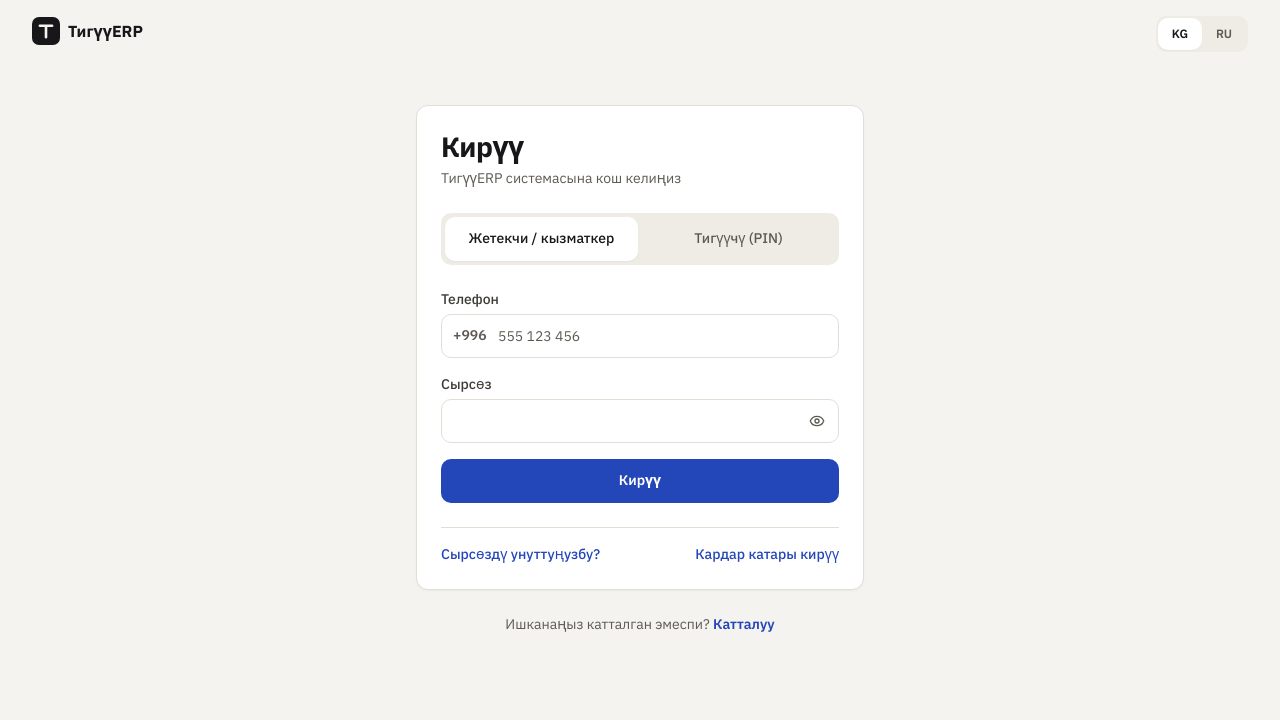
Test: login (1.1) › validates the phone on the client
Type "555" into the field labelled "Телефон" at (640, 336), box [441, 314, 839, 358]
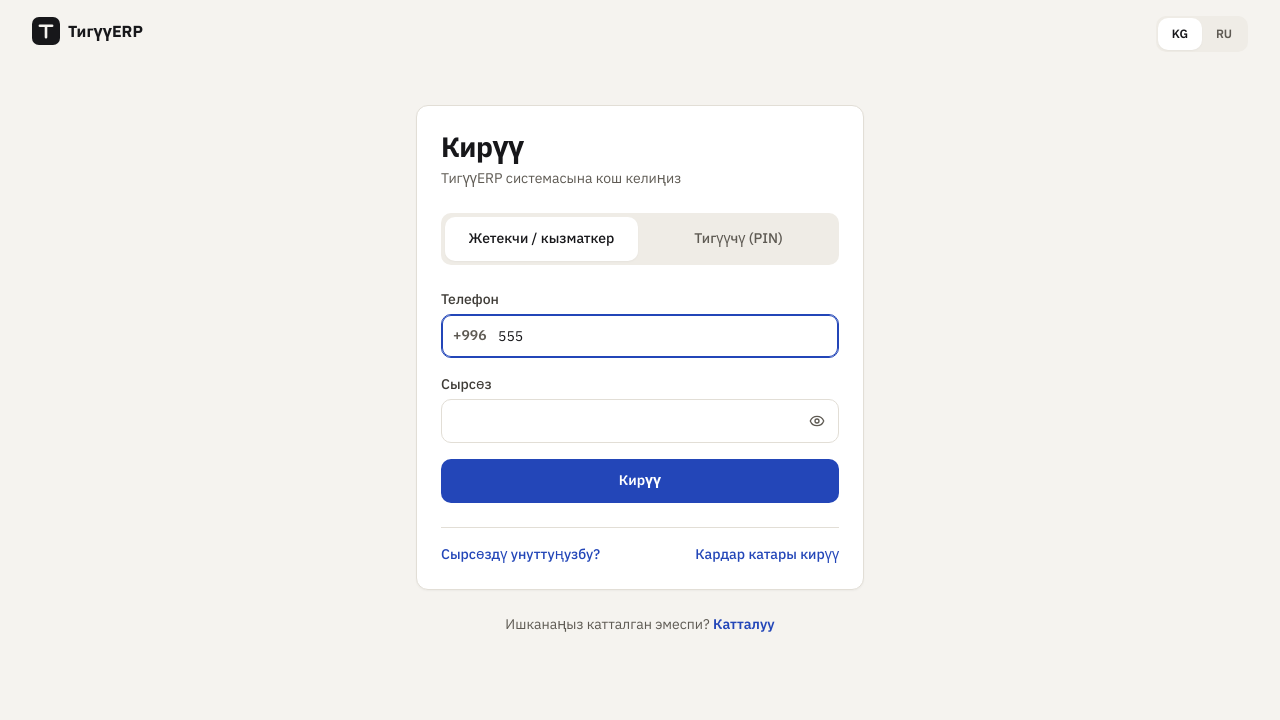
Click the button "Кирүү" at (640, 481), box [441, 459, 839, 503]
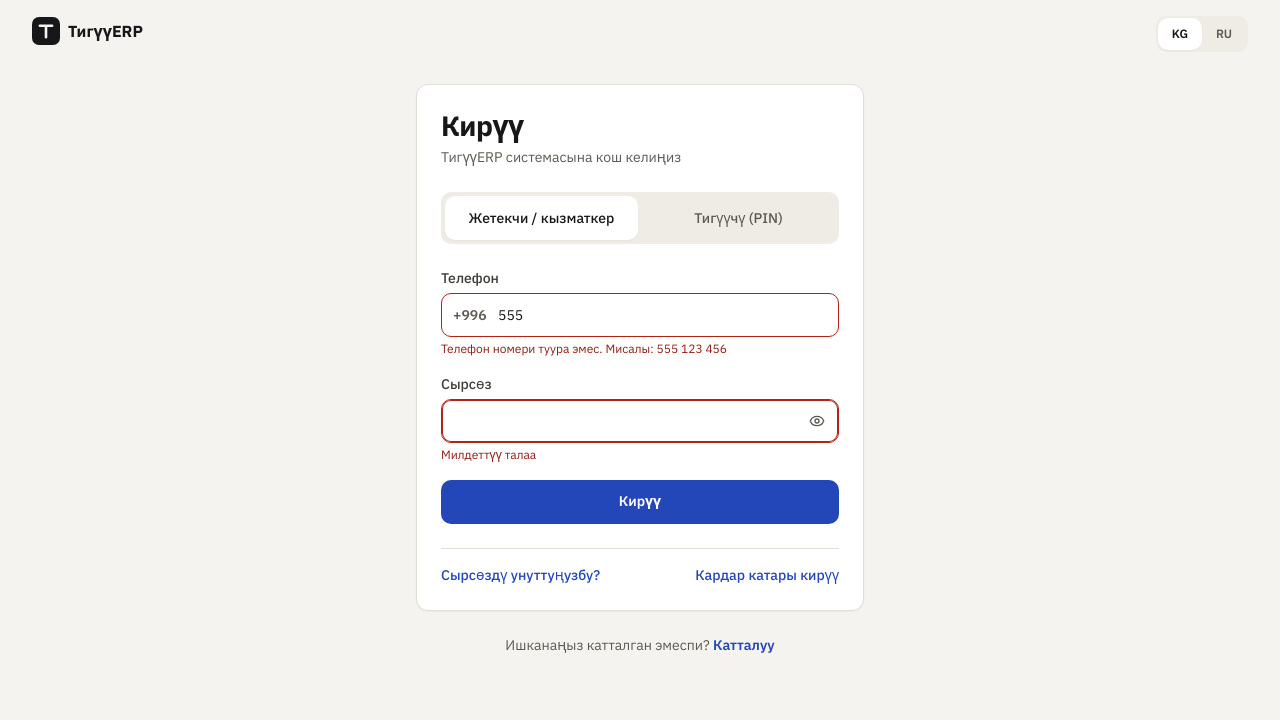
Result: the text "Телефон номери туура эмес. Мисалы: 555 123 456" is shown at [441, 341, 727, 356]
